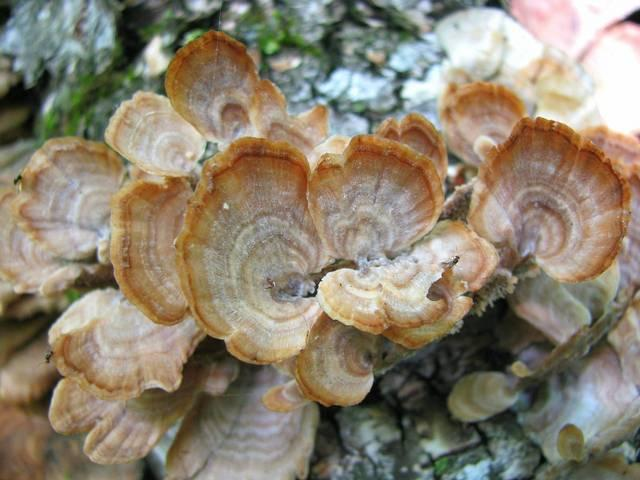poisonous_mushroom: (0, 20, 639, 478), (465, 114, 631, 285)
